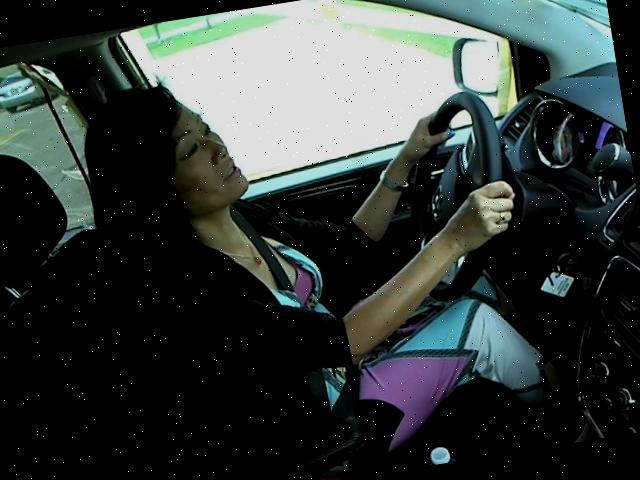c0 - Safe Driving: (72, 30, 540, 404)
